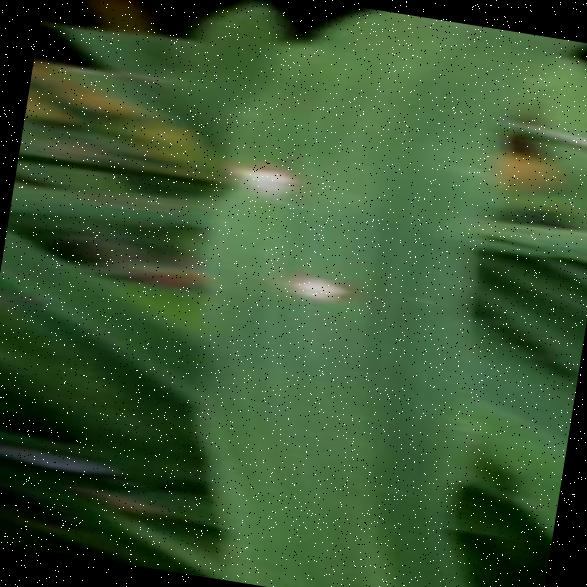Leaf_smut: (238, 242, 383, 339), (195, 143, 305, 221)
